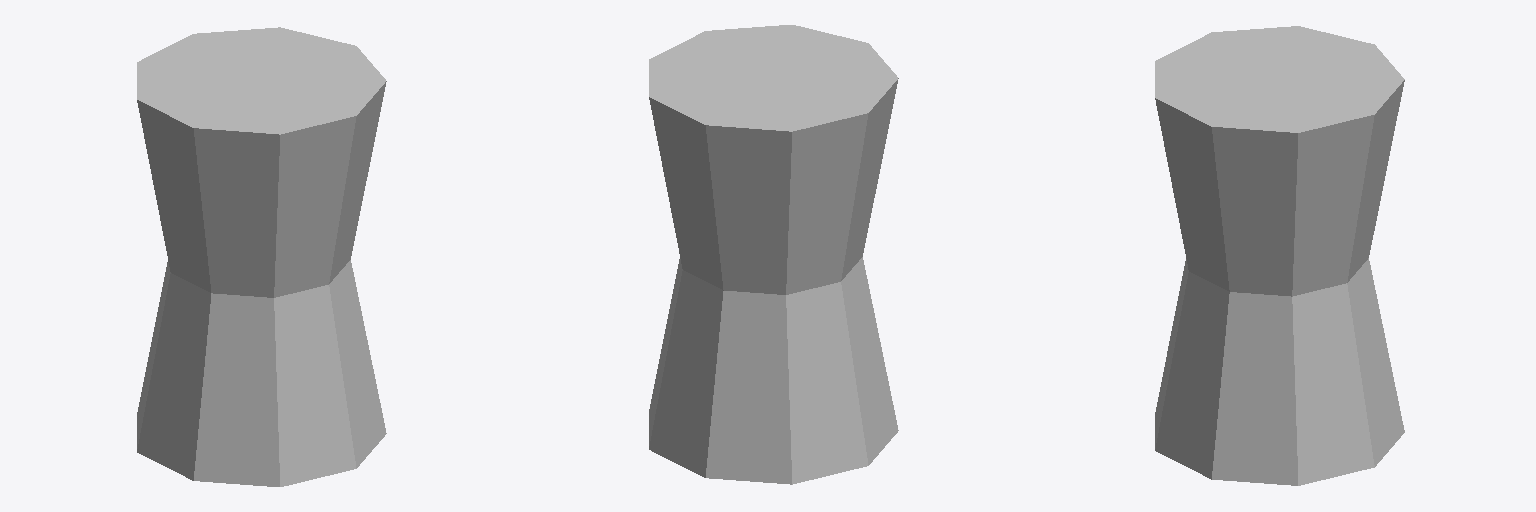
The model's file is Trunk.obj.
3 views of the same model, side by side, from view 1: azimuth 30°, elevation 25°; view 2: azimuth 150°, elevation 25°; view 3: azimuth 270°, elevation 25° (orthographic).
Visible parts, largest first — view 1: Cylinder; view 2: Cylinder; view 3: Cylinder.
Part boxes in pixels (x1,y1,x2,y2): Cylinder: (137,27,386,486); Cylinder: (649,25,898,484); Cylinder: (1155,26,1404,485).
Bounding box in the file's own units: 0.0216 × 0.0332 × 0.0213.